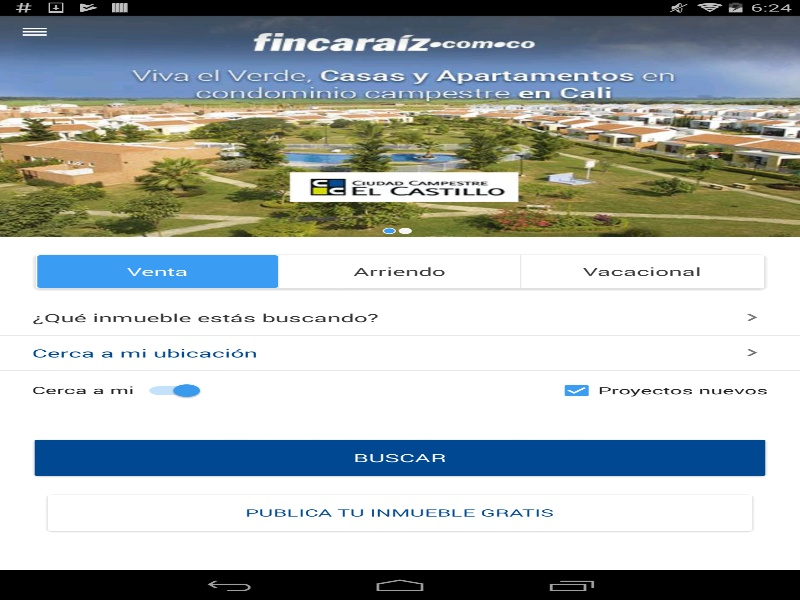Input: (32, 310, 736, 325), (32, 345, 736, 360)
